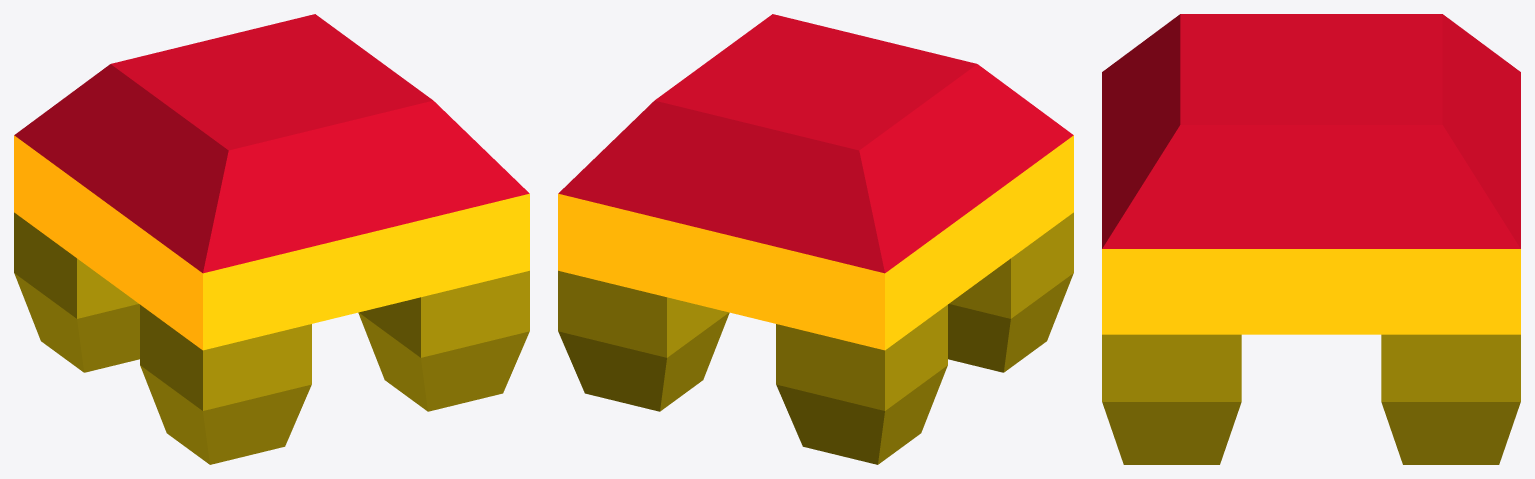
File: BasicEnemyModel.glb
The picture shows the model from 3 angles, left to right: view 1: azimuth 30°, elevation 25°; view 2: azimuth 150°, elevation 25°; view 3: azimuth 270°, elevation 25°; orthographic projection. The views are drawn at different scales.
Parts seen in each view (by area): view 1: Cube; view 2: Cube; view 3: Cube.
Part boxes in pixels (x1,y1,x2,y2): Cube: (14, 14, 529, 464); Cube: (558, 14, 1073, 464); Cube: (1102, 14, 1520, 464).
Size of the model in its own units: 3.61 by 3.01 by 3.61.
